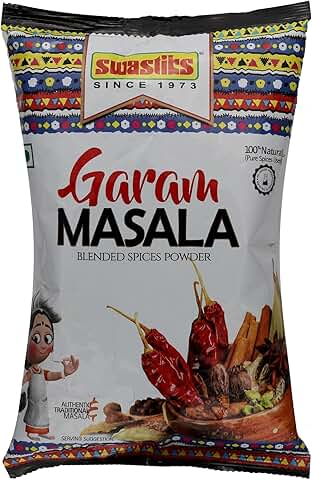Garamasala: (1, 1, 312, 478)
